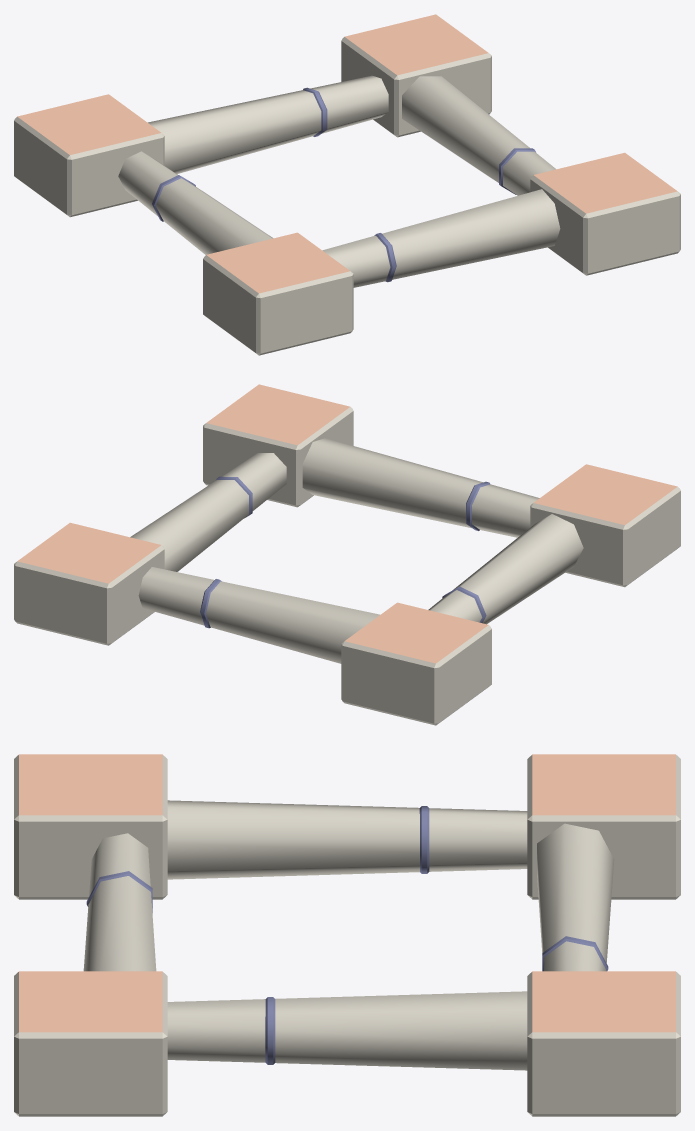
File: R4C_ROD_FRAME_LOD1.fbx
3 renders of one model, top to bottom at view 1: azimuth 30°, elevation 25°; view 2: azimuth 150°, elevation 25°; view 3: azimuth 270°, elevation 25°, orthographic. The views are drawn at different scales.
Visible parts, largest first — view 1: R4C_ROD_FRAME_LOD1; view 2: R4C_ROD_FRAME_LOD1; view 3: R4C_ROD_FRAME_LOD1.
Part boxes in pixels (x1,y1,x2,y2): R4C_ROD_FRAME_LOD1: [14, 14, 680, 355]; R4C_ROD_FRAME_LOD1: [14, 384, 680, 725]; R4C_ROD_FRAME_LOD1: [14, 754, 680, 1116].
Bounding box in the file's own units: 1.62 × 0.226 × 1.62.
